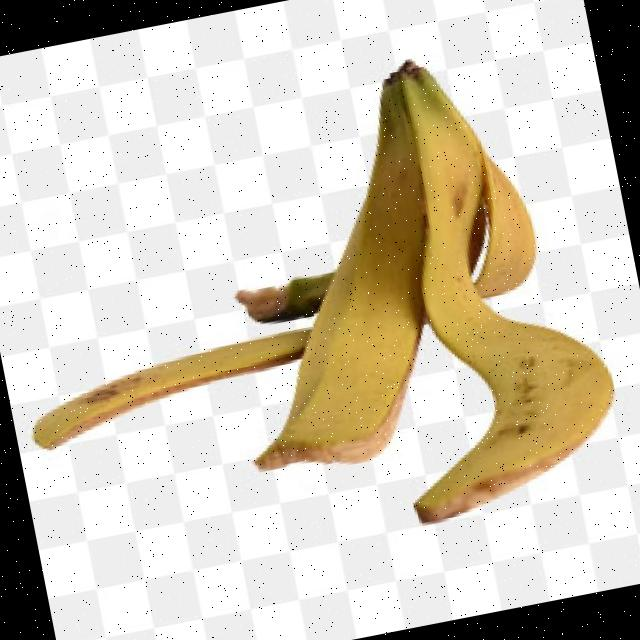banana-peel: (0, 32, 633, 594), (328, 34, 632, 526)
